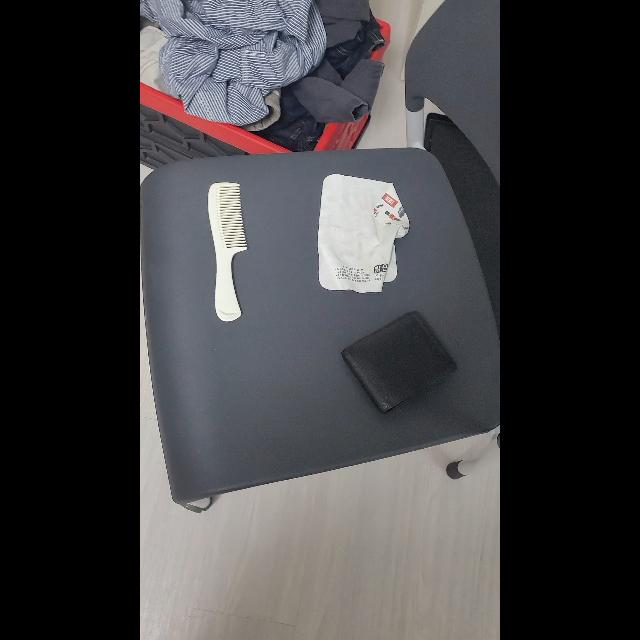COMB: (208, 181, 248, 321)
Glasses cleaning cloth: (318, 173, 410, 293)
WALLET: (342, 311, 458, 414)
